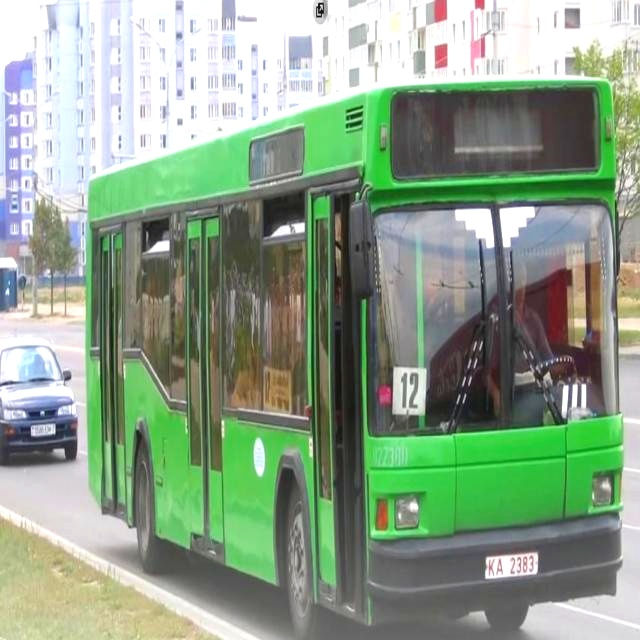bus: (51, 56, 633, 637)
car: (1, 291, 88, 457)
